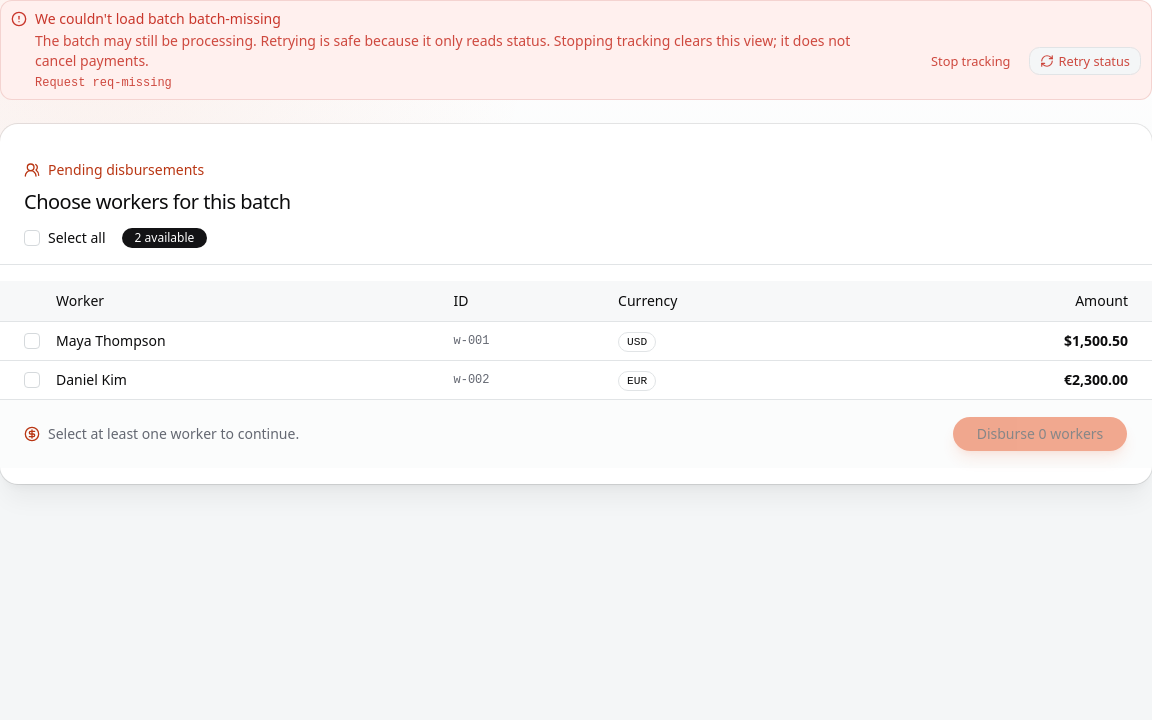
Test: DisbursementDashboard › can stop tracking an unavailable batch without implying cancellation
Expected: the text "We couldn't load batch batch-missing" is shown, [35,9,281,28]
Expected: the text "does not cancel payments" is shown, [35,31,850,70]
Click the button "Stop tracking" at (971, 61), box [920,47,1022,75]
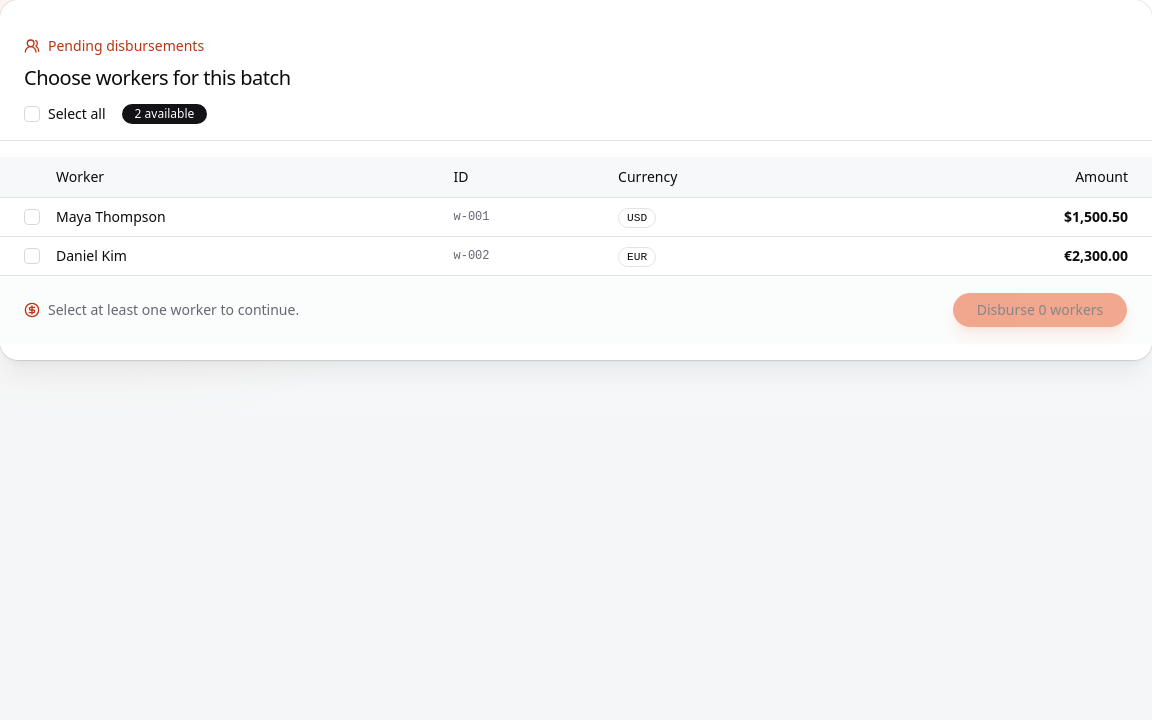
Expected: the text "We couldn't load batch batch-missing" is gone
